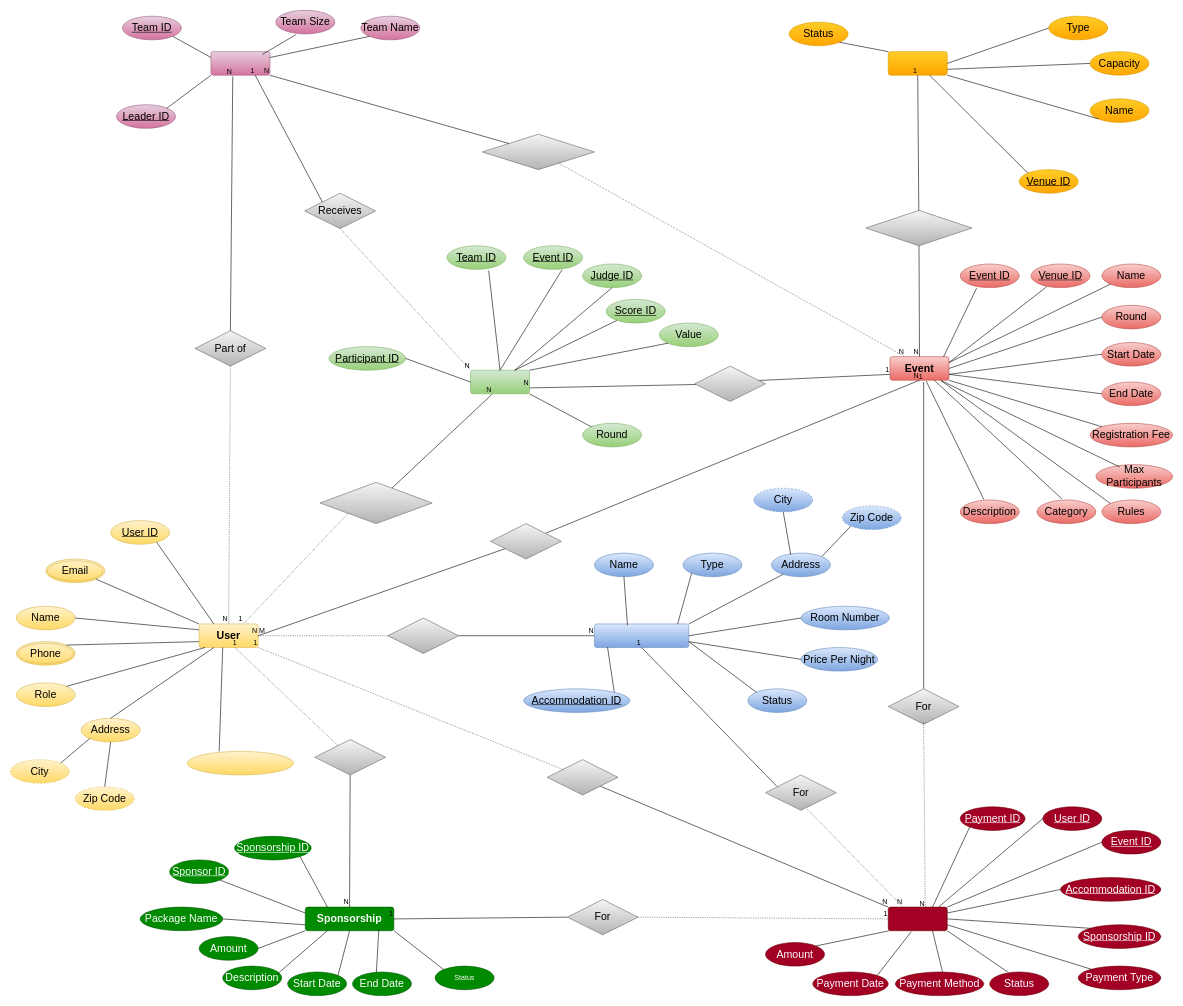
Image size: 1183x1006. Some labels were removed from this diagram. Each missing label, with the centre of its shape:
"Accommodation" goes at point (641, 635).
"Assigns/Receives" goes at point (375, 503).
"Books" goes at point (423, 635).
"Has" goes at point (730, 383).
"Involved in" goes at point (525, 541).
"Makes" goes at point (582, 777).
"Participates in" goes at point (538, 152).
"Payment" goes at point (917, 919).
"Provides" goes at point (350, 757).
"Registration Date" goes at point (240, 763).
"Scheduled in" goes at point (918, 228).
"Score" goes at point (500, 382).
"Team" goes at point (240, 63).
"Venue" goes at point (917, 63).
